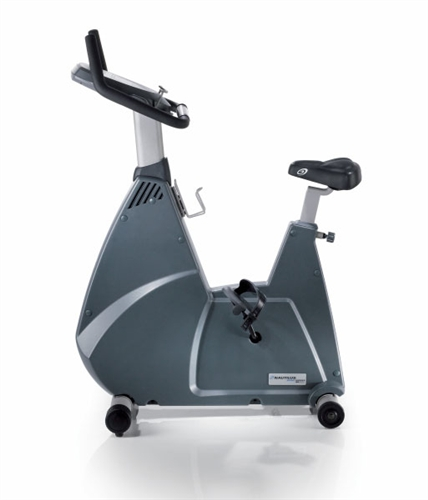gym_bike: (68, 27, 362, 449)
